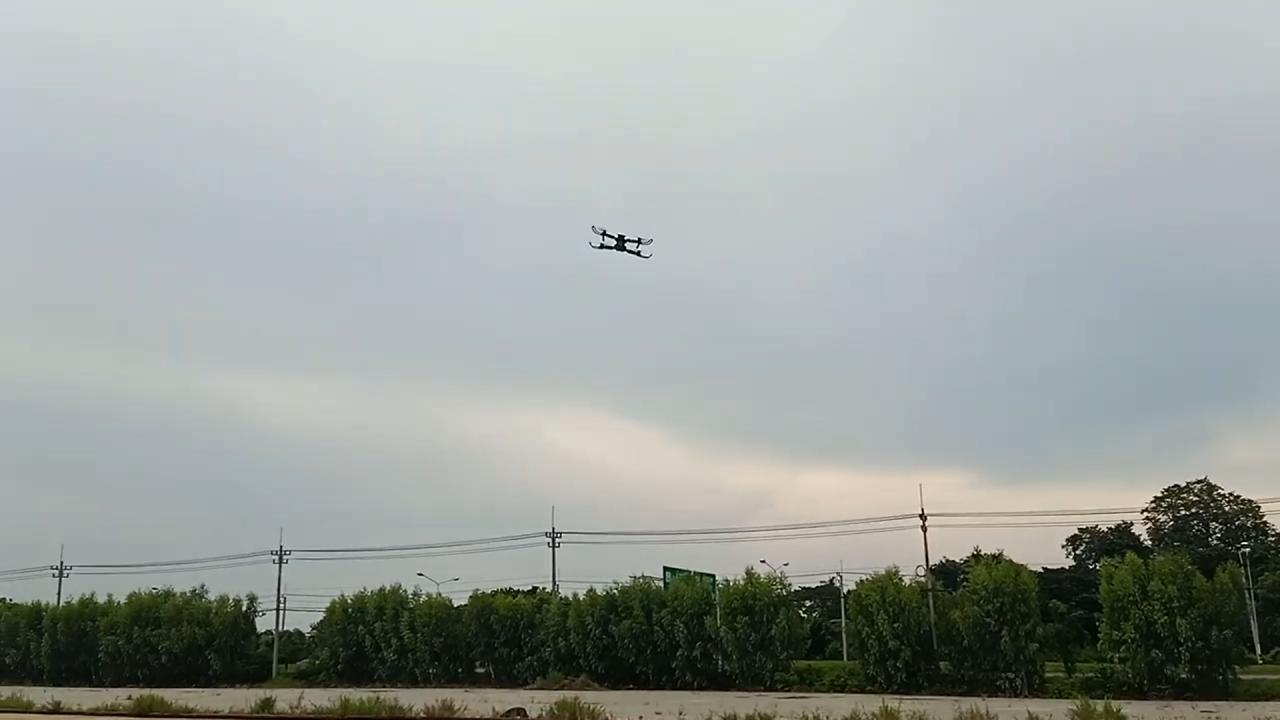Drone: (582, 215, 659, 267)
